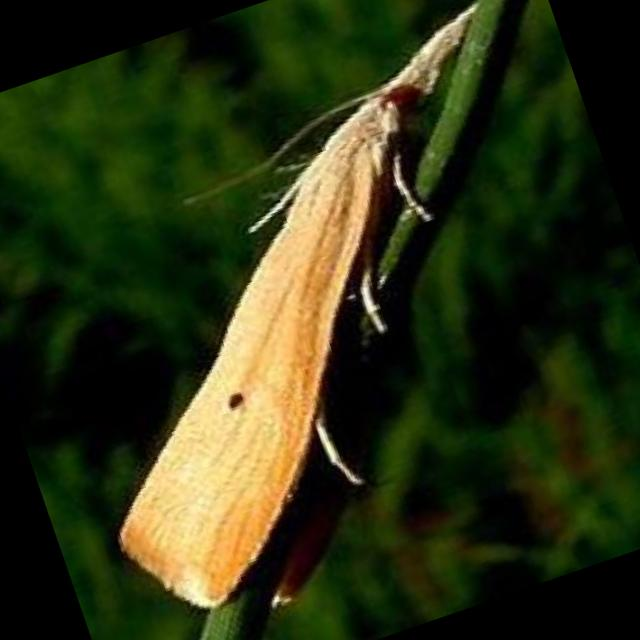stem-borer: (110, 0, 486, 623)
